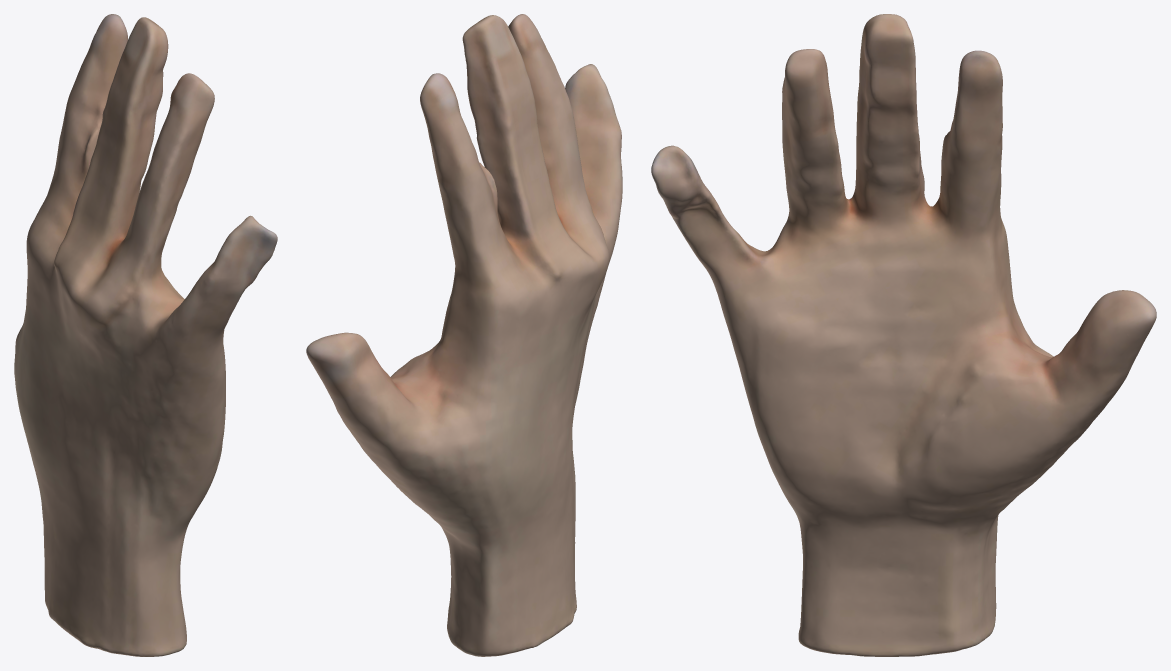
File: 3cef2789c3a9_hand_with_gesture__.fbx
3 views of the same model, side by side, from view 1: azimuth 30°, elevation 25°; view 2: azimuth 150°, elevation 25°; view 3: azimuth 270°, elevation 25° (orthographic). The views are drawn at different scales.
Visible parts, largest first — view 1: high_poly; view 2: high_poly; view 3: high_poly.
Boxes of the visible parts, x1,y1,x2,y2 form: high_poly: (14,14,277,656); high_poly: (306,14,622,656); high_poly: (651,14,1156,656).
Bounding box in the file's own units: 26.68 × 100 × 71.73.
